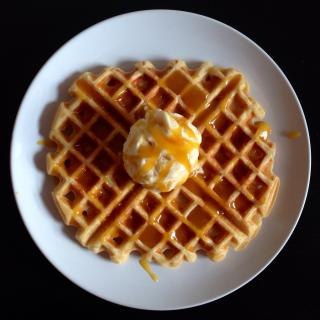Waffle: (46, 58, 278, 263)
